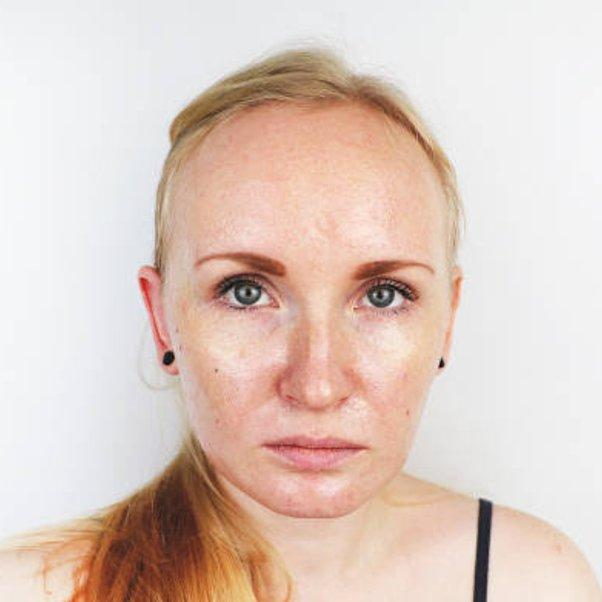Oily-Skin: (197, 317, 296, 396), (342, 317, 425, 400)
